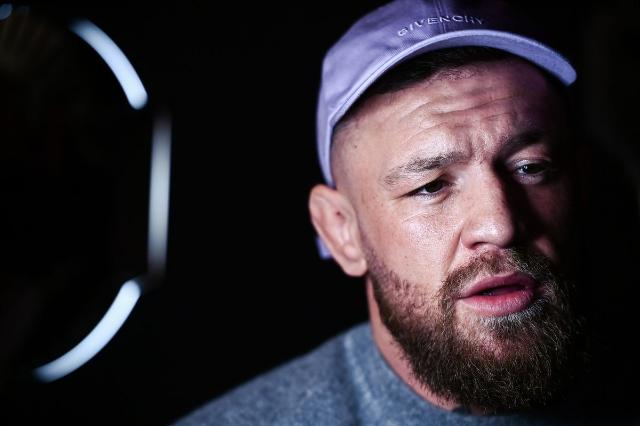forehead: (447, 98, 505, 116), (398, 94, 438, 120), (404, 122, 440, 140)
